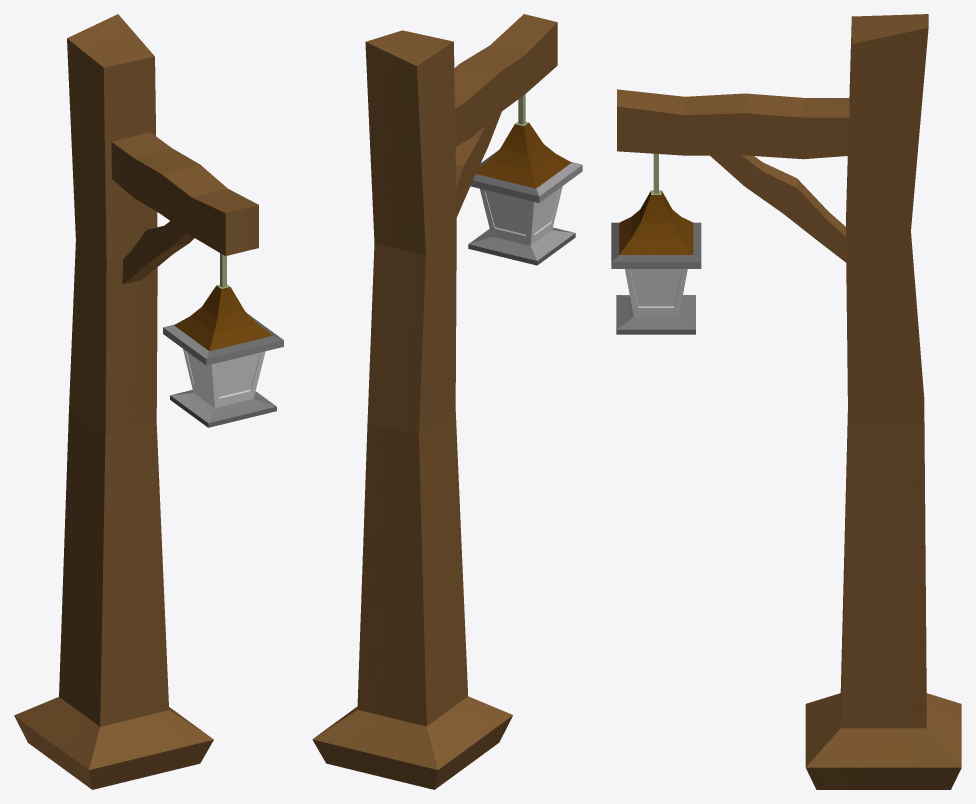
Rendered from poste.fbx.
3 views of the same model, side by side, from view 1: azimuth 30°, elevation 25°; view 2: azimuth 150°, elevation 25°; view 3: azimuth 270°, elevation 25° (orthographic). The views are drawn at different scales.
Visible parts, largest first — view 1: Cube.005, Cube.006; view 2: Cube.005, Cube.006; view 3: Cube.005, Cube.006.
Boxes of the visible parts, x1=… form: Cube.005: x1=14, y1=14, x2=283, y2=789; Cube.006: x1=183, y1=349, x2=265, y2=408; Cube.005: x1=312, y1=14, x2=582, y2=789; Cube.006: x1=480, y1=186, x2=562, y2=245; Cube.005: x1=611, y1=14, x2=961, y2=789; Cube.006: x1=625, y1=269, x2=687, y2=316.
Bounding box in the file's own units: 68.68 × 376 × 160.
3 materials, 2 textured.
